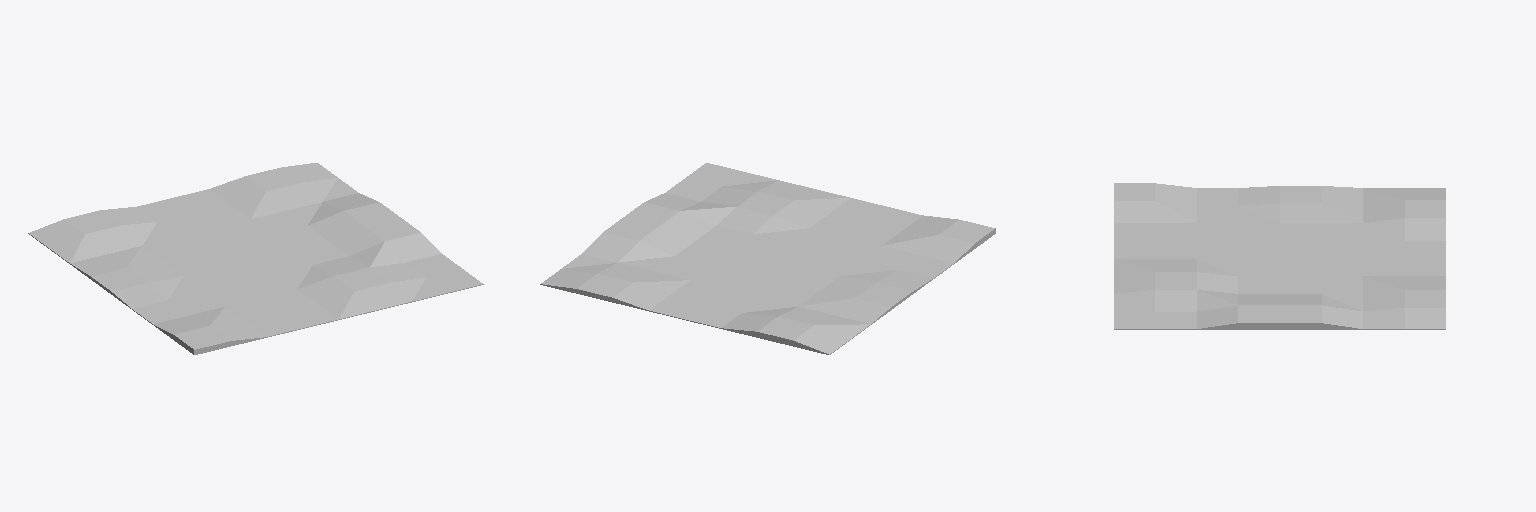
The model's file is terrain_simple.obj.
3 views of the same model, side by side, from view 1: azimuth 30°, elevation 25°; view 2: azimuth 150°, elevation 25°; view 3: azimuth 270°, elevation 25° (orthographic).
Parts seen in each view (by area): view 1: Cube; view 2: Cube; view 3: Cube.
Boxes of the visible parts, box(x1,y1,x2,y2) form: Cube: box(28, 163, 483, 354); Cube: box(540, 163, 995, 354); Cube: box(1114, 183, 1445, 329).
Bounding box in the file's own units: 28.01 × 0.6319 × 27.87.